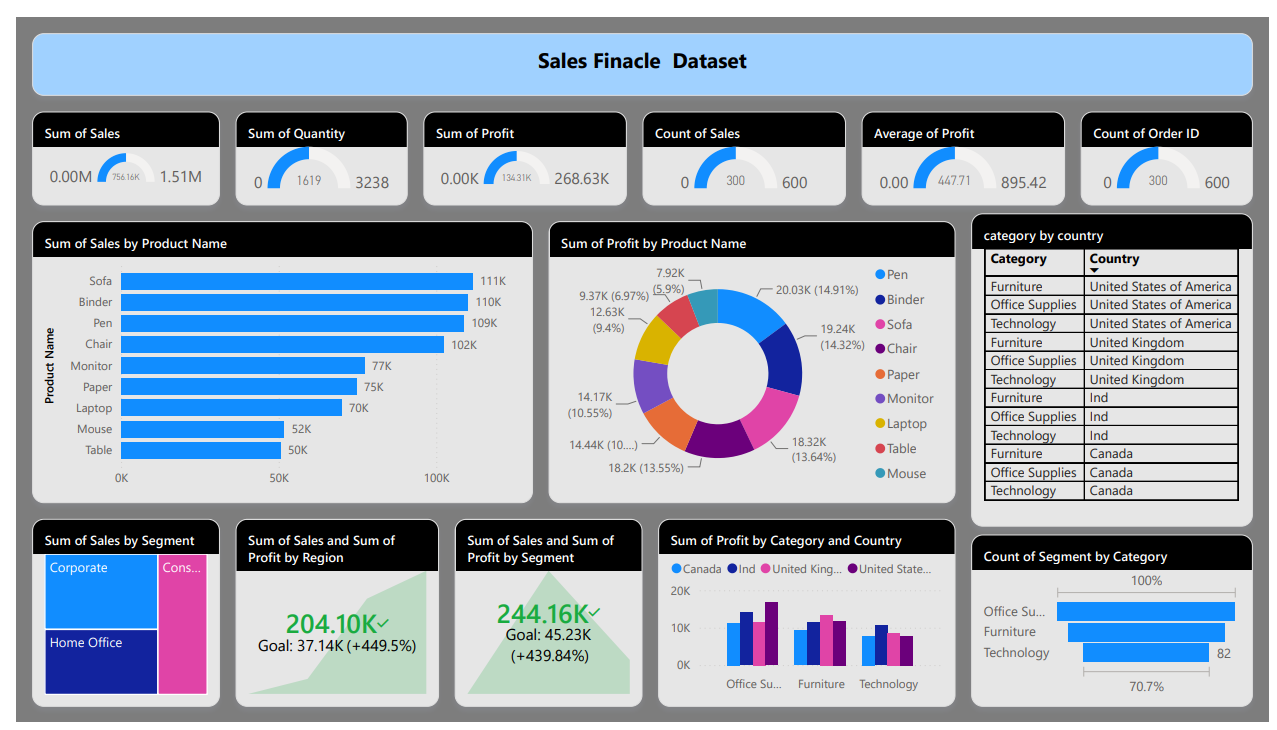

Layout of this report page (visuals, bound fields, positions):
{"tool":"powerbi","page":{"name":"Page 1","canvas":[1280,720],"ordinal":0},"visuals":[{"type":"barChart","fields":{"Y":["Sum(Sheet.Sales)"],"Category":["Sheet.Product Name"]},"box":[16,208,512,288],"z":0},{"type":"gauge","fields":{"Y":["Sum(Sheet.Profit)"]},"box":[416,96,208,96],"z":1000},{"type":"donutChart","fields":{"Category":["Sheet.Product Name"],"Y":["Sum(Sheet.Profit)"]},"box":[544,208,416,288],"z":2000},{"type":"gauge","fields":{"Y":["Sum(Sheet.Sales)"]},"box":[16,96,192,96],"z":3000},{"type":"gauge","fields":{"Y":["Sum(Sheet.Quantity)"]},"box":[224,96,176,96],"z":4000},{"type":"tableEx","title":"category by country","fields":{"Values":["Sheet.Category","Sheet.Country"]},"box":[976,200,288,320],"z":5000},{"type":"treemap","fields":{"Group":["Sheet.Segment"],"Values":["Sum(Sheet.Sales)"]},"box":[16,512,192,192],"z":6000},{"type":"kpi","fields":{"TrendLine":["Sheet.Region"],"Indicator":["Sum(Sheet.Sales)"],"Goal":["Sum(Sheet.Profit)"]},"box":[224,512,208,192],"z":7000},{"type":"kpi","fields":{"TrendLine":["Sheet.Segment"],"Indicator":["Sum(Sheet.Sales)"],"Goal":["Sum(Sheet.Profit)"]},"box":[448,512,192,192],"z":8000},{"type":"clusteredColumnChart","fields":{"Category":["Sheet.Category"],"Series":["Sheet.Country"],"Y":["Sum(Sheet.Profit)"]},"box":[656,512,304,192],"z":9000},{"type":"textbox","box":[16,16,1248,64],"z":10000},{"type":"gauge","fields":{"Y":["CountNonNull(Sheet.Sales)"]},"box":[640,96,208,96],"z":11000},{"type":"funnel","fields":{"Category":["Sheet.Category"],"Y":["CountNonNull(Sheet.Segment)"]},"box":[976,528,288,176],"z":12000},{"type":"gauge","fields":{"Y":["Avg(Sheet.Profit)"]},"box":[864,96,208,96],"z":13000},{"type":"gauge","fields":{"Y":["CountNonNull(Sheet.Order ID)"]},"box":[1088,96,176,96],"z":14000}]}

Visuals, with their boxes in screenshot pixels (x1, y1, x2, y2), scaled from the page's 1280x720 canvas onto the 1277x730 screenshot:
barChart - Sum(Sheet.Sales) x Sheet.Product Name: (16,211,527,503)
gauge - Sum(Sheet.Profit): (415,97,623,195)
donutChart - Sheet.Product Name x Sum(Sheet.Profit): (543,211,958,503)
gauge - Sum(Sheet.Sales): (16,97,208,195)
gauge - Sum(Sheet.Quantity): (223,97,399,195)
"category by country" tableEx: (974,203,1261,527)
treemap - Sheet.Segment x Sum(Sheet.Sales): (16,519,208,714)
kpi - Sheet.Region x Sum(Sheet.Sales): (223,519,431,714)
kpi - Sheet.Segment x Sum(Sheet.Sales): (447,519,638,714)
clusteredColumnChart - Sheet.Category x Sheet.Country: (654,519,958,714)
textbox: (16,16,1261,81)
gauge - CountNonNull(Sheet.Sales): (638,97,846,195)
funnel - Sheet.Category x CountNonNull(Sheet.Segment): (974,535,1261,714)
gauge - Avg(Sheet.Profit): (862,97,1069,195)
gauge - CountNonNull(Sheet.Order ID): (1085,97,1261,195)
